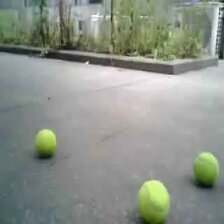tennis: (138, 179, 169, 224), (194, 152, 219, 185), (36, 130, 56, 156)
